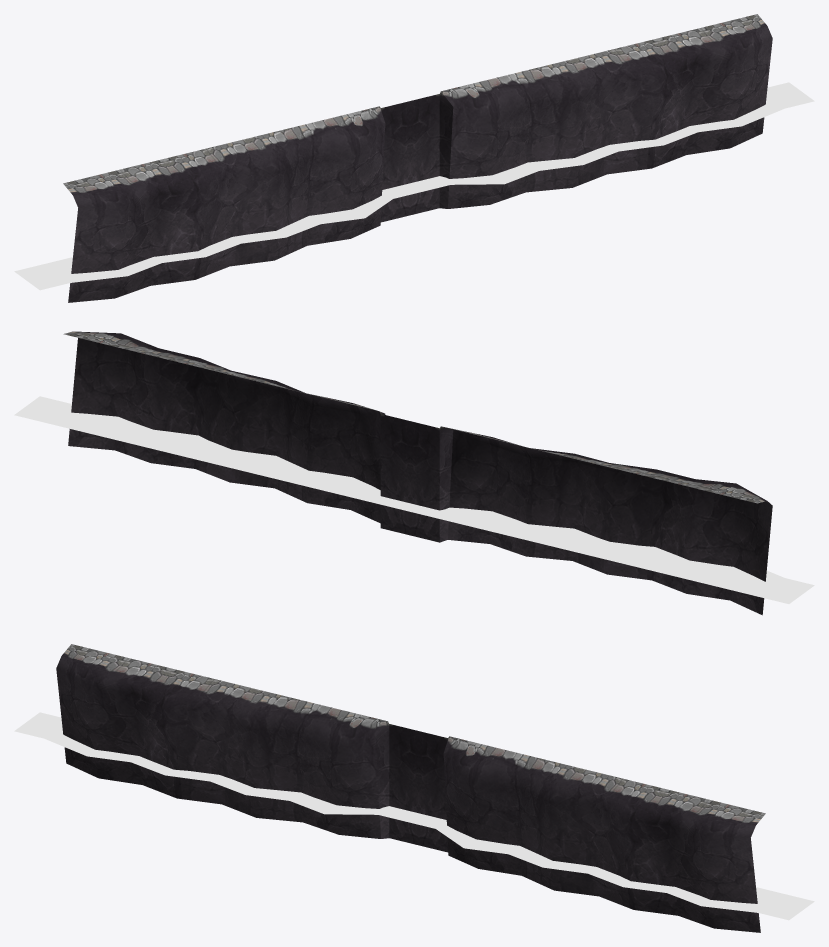
Rendered from Abyss_Road.FBX.
The picture shows the model from 3 angles, top to bottom: view 1: azimuth 30°, elevation 25°; view 2: azimuth 150°, elevation 25°; view 3: azimuth 330°, elevation 25°; orthographic projection.
Parts seen in each view (by area): view 1: Abyss_Road; view 2: Abyss_Road; view 3: Abyss_Road.
Part boxes in pixels (x1=…): Abyss_Road: x1=14, y1=14, x2=814, y2=302; Abyss_Road: x1=14, y1=331, x2=814, y2=615; Abyss_Road: x1=14, y1=644, x2=814, y2=932.
Size of the model in its own units: 19645 by 2824 by 1467.
